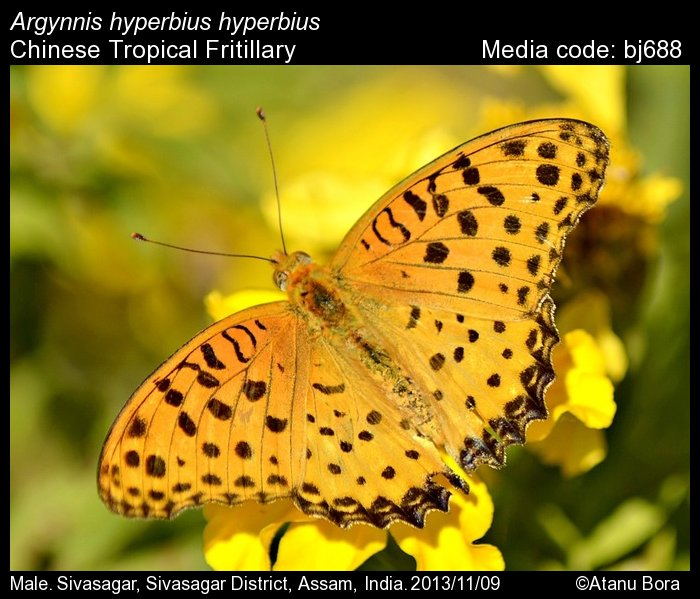Argyreus hyperbius: (93, 92, 616, 528)
butterfly: (95, 94, 618, 530)
